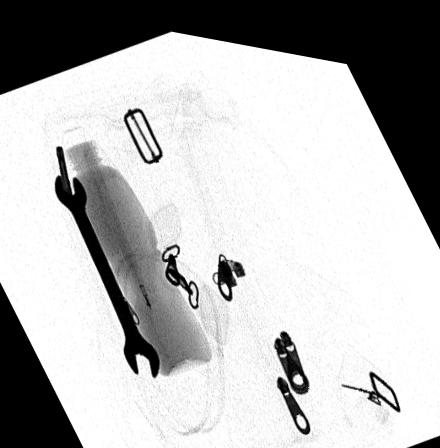Wrench: (53, 171, 159, 376)
